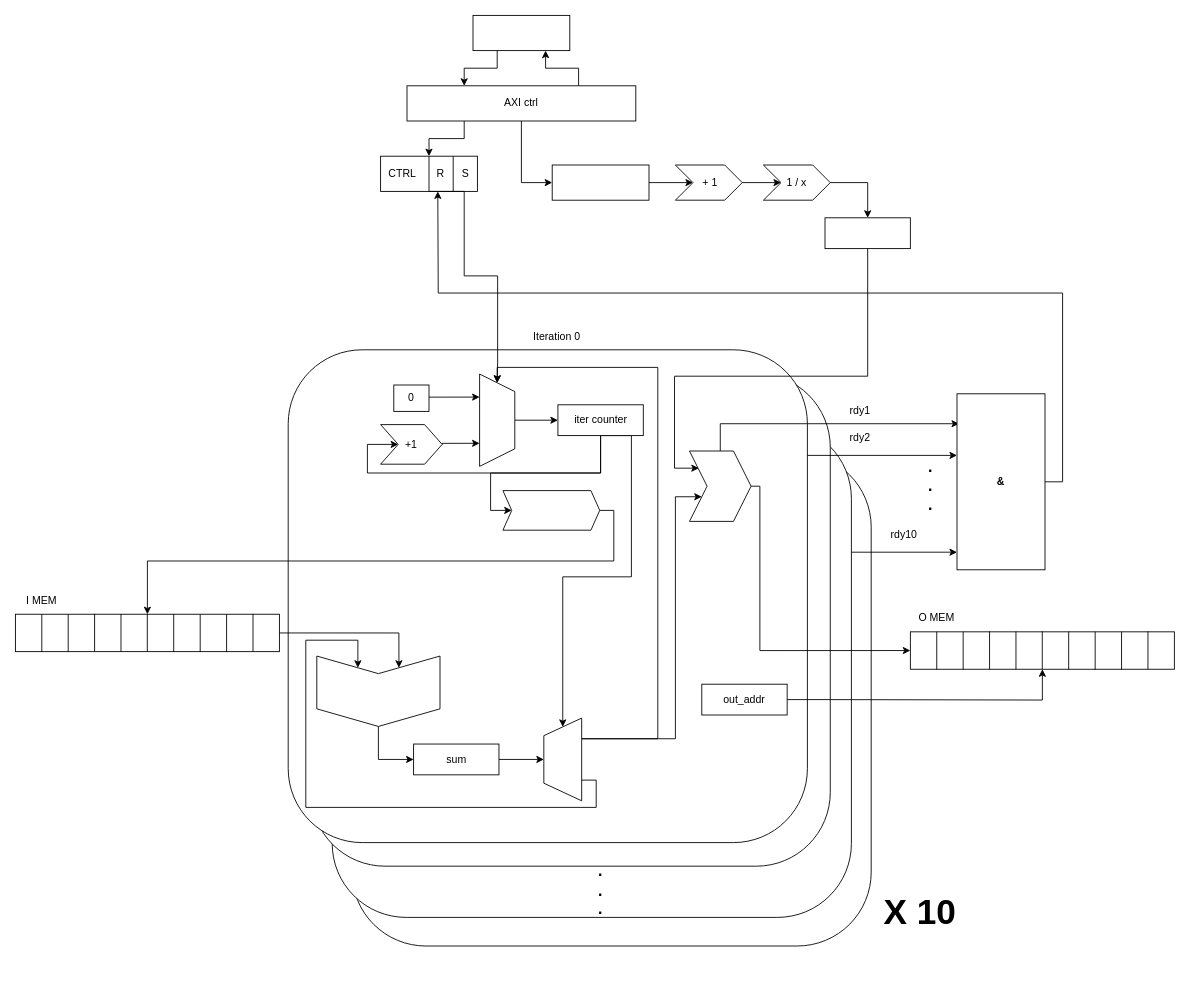
The diagram is 1190 pixels wide and 1003 high, and some of its shapes have lost their labels. Here are the shapes that lost their labels. From the top down, the centre of each, then its label:
point (521, 33): Microblaze
point (600, 182): depth
point (867, 233): coef
point (720, 485): fmul
point (551, 510): 4x + inp_base
point (378, 690): fadd
